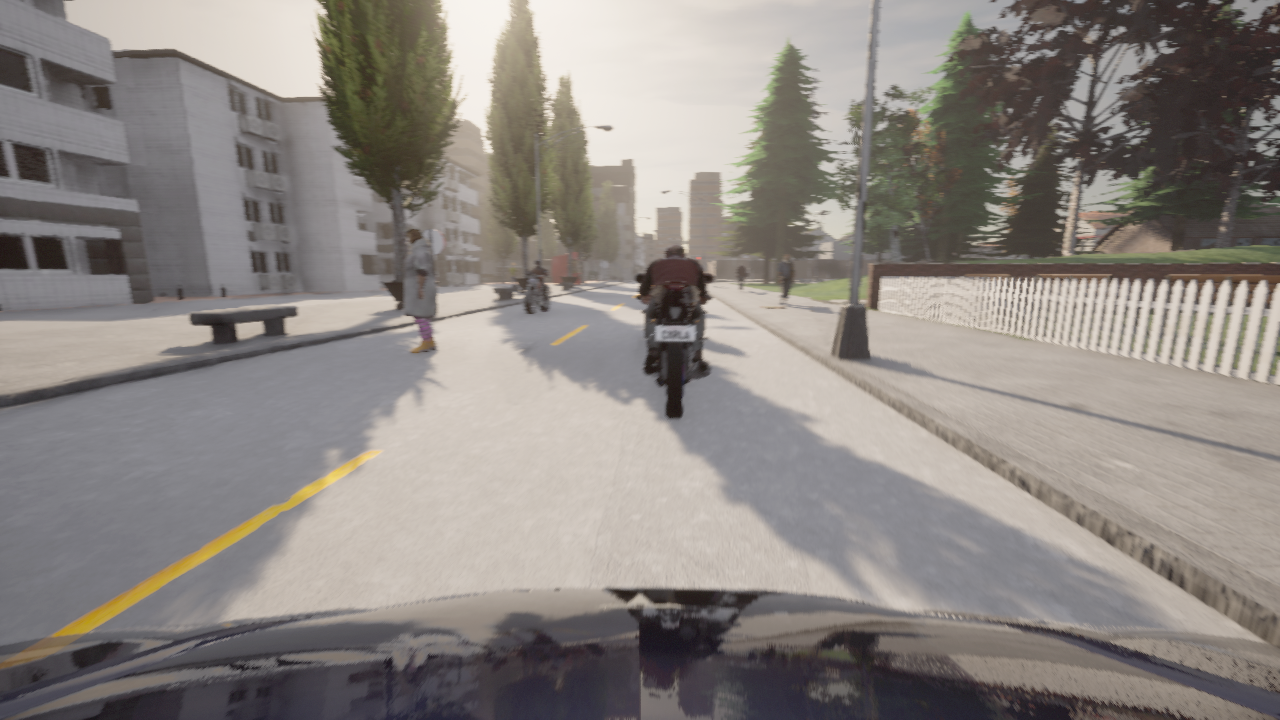cyclist: (0, 588, 1279, 719), (635, 274, 713, 418), (522, 271, 550, 314), (769, 278, 773, 281)
pedestrian: (403, 228, 436, 354), (777, 253, 793, 305), (735, 263, 747, 291), (508, 263, 519, 286)
